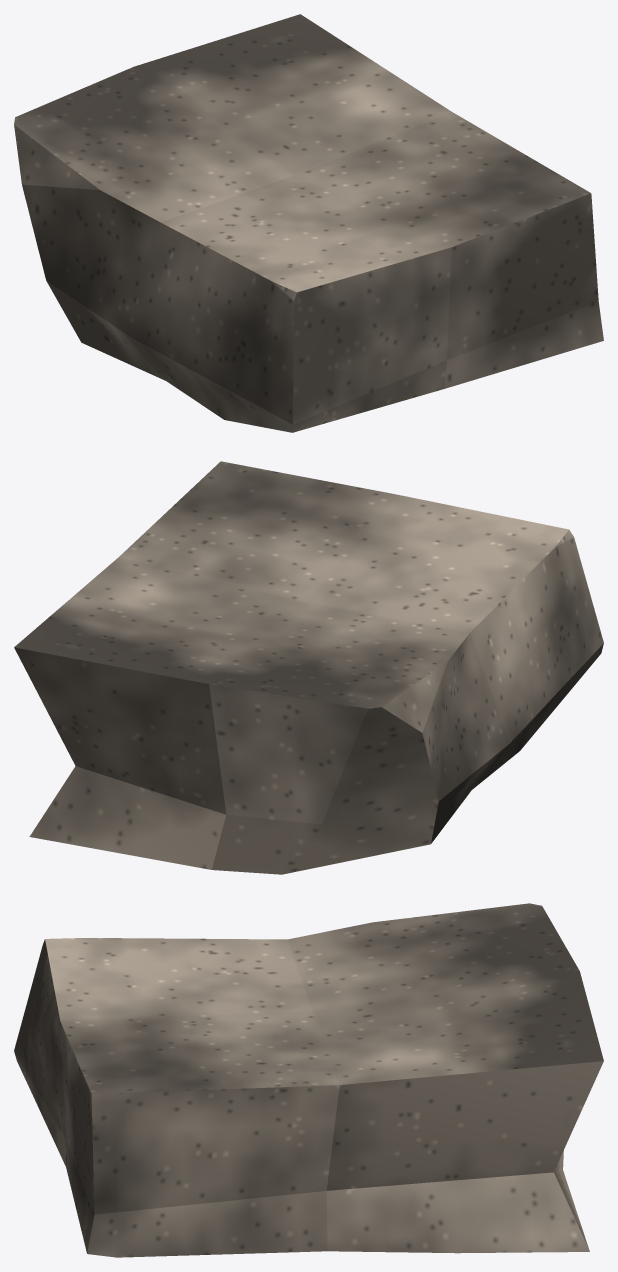
Rendered from rock_small_01.glb.
3 views of the same model, one above another, from view 1: azimuth 30°, elevation 25°; view 2: azimuth 150°, elevation 25°; view 3: azimuth 270°, elevation 25° (orthographic). The views are drawn at different scales.
Visible parts, largest first — view 1: rock_small_1; view 2: rock_small_1; view 3: rock_small_1.
Part boxes in pixels (bbox=[...]): rock_small_1: bbox=[14, 14, 603, 432]; rock_small_1: bbox=[14, 461, 603, 874]; rock_small_1: bbox=[14, 903, 603, 1257].
Size of the model in its own units: 1.23 by 0.5625 by 1.53.
1 material, 1 textured.
